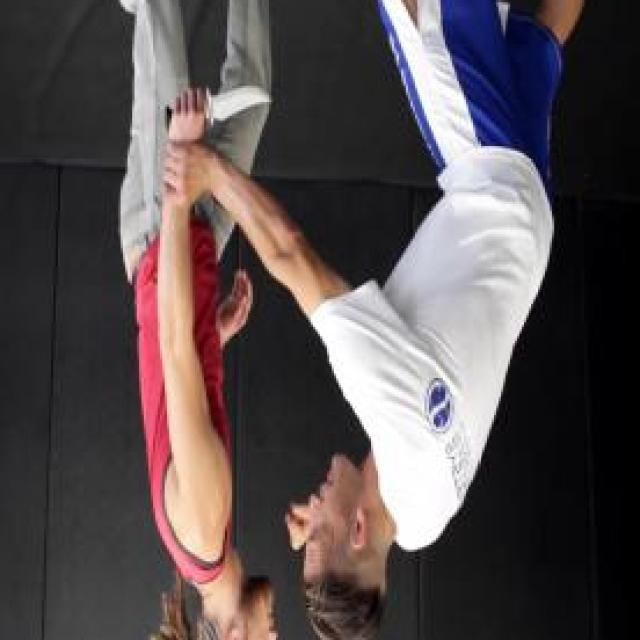knife: (160, 78, 278, 144)
